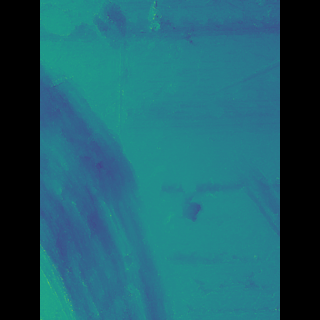Loch: (69, 41, 183, 320), (206, 140, 250, 245), (194, 55, 250, 98)
